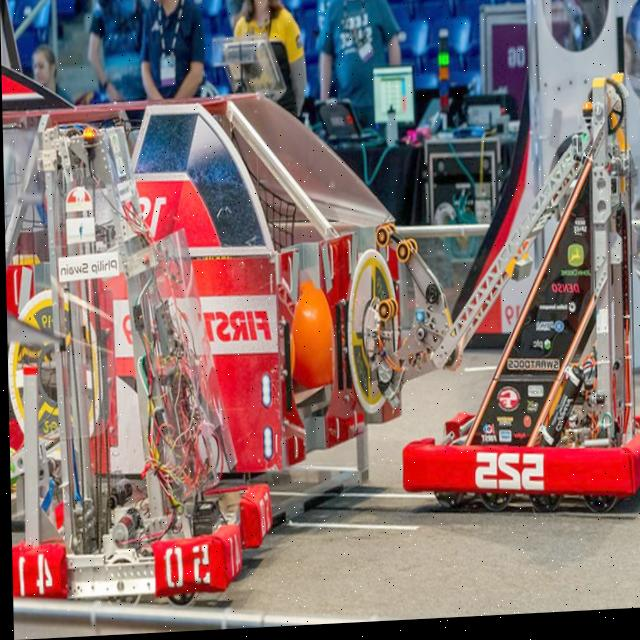robot: (3, 117, 276, 605), (372, 68, 640, 526)
